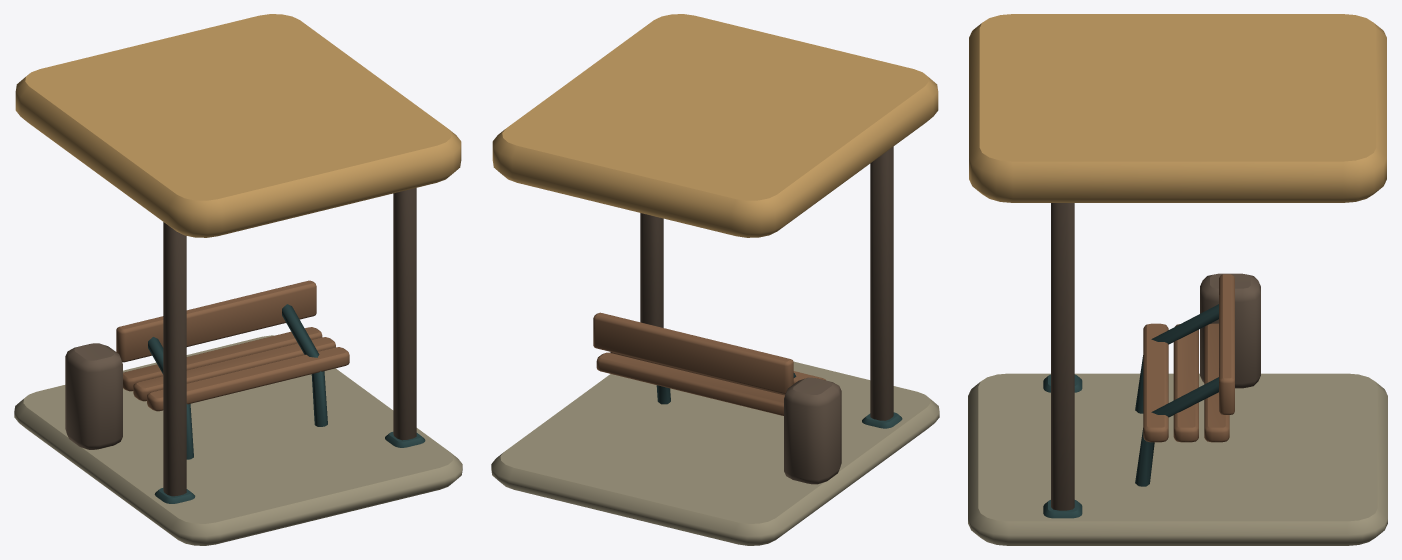
File: truck_park_works_2.glb
The picture shows the model from 3 angles, left to right: view 1: azimuth 30°, elevation 25°; view 2: azimuth 150°, elevation 25°; view 3: azimuth 270°, elevation 25°; orthographic projection. The views are drawn at different scales.
Visible parts, largest first — view 1: TruckParkWorks2; view 2: TruckParkWorks2; view 3: TruckParkWorks2.
Boxes of the visible parts, x1,y1,x2,y2 form: TruckParkWorks2: (14, 14, 462, 545); TruckParkWorks2: (491, 14, 939, 545); TruckParkWorks2: (968, 14, 1387, 545).
Bounding box in the file's own units: 2.19 × 2.51 × 2.48.
